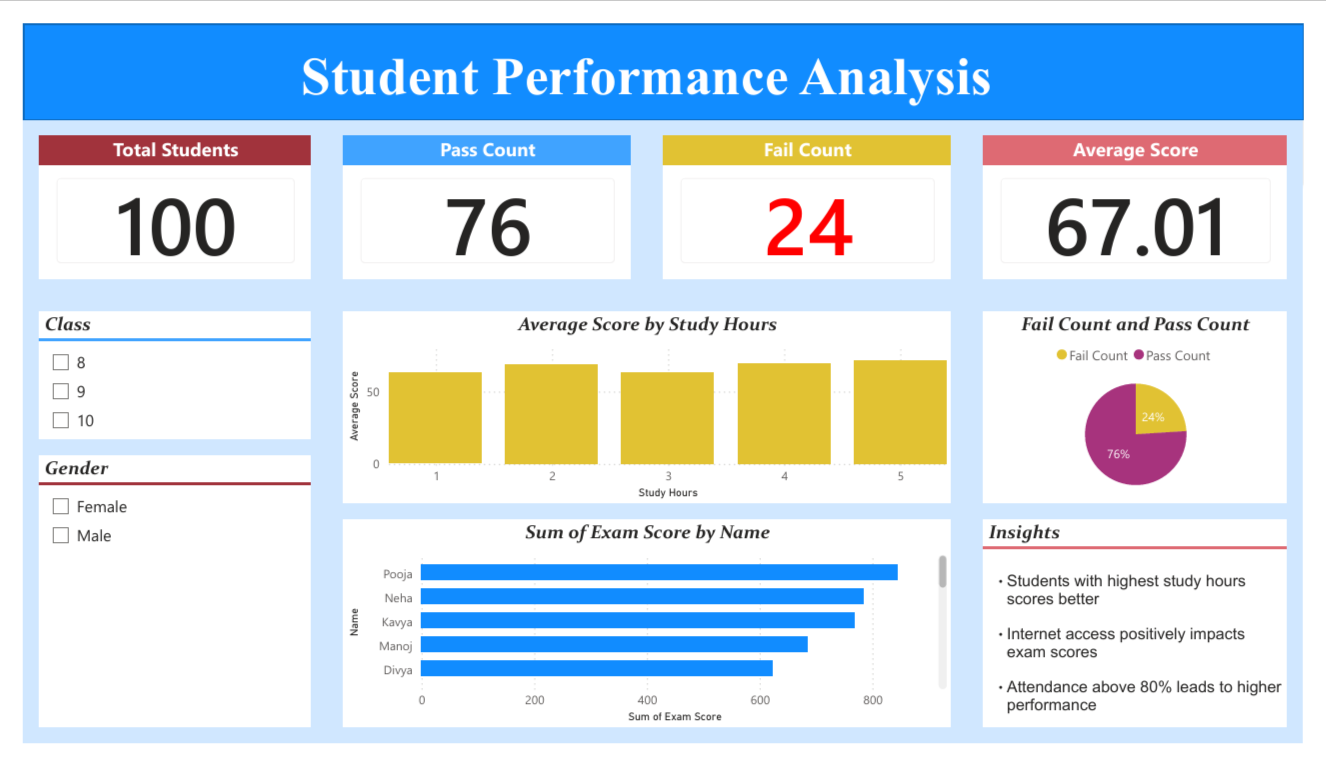

This screenshot's page, from the dashboard's own definition file:
{"tool":"powerbi","page":{"name":"Page 1","canvas":[1280,720],"ordinal":0},"visuals":[{"type":"cardVisual","title":"Total Students","fields":{"Data":["Students.Total Students"]},"box":[16,112,272,144],"z":0},{"type":"cardVisual","title":"Pass Count","fields":{"Data":["Students.Pass Count"]},"box":[320,112,288,144],"z":1000},{"type":"cardVisual","title":"Fail Count","fields":{"Data":["Students.Fail Count"]},"box":[640,112,288,144],"z":2000},{"type":"cardVisual","title":"Average Score","fields":{"Data":["Students.Average Score"]},"box":[960,112,304,144],"z":3000},{"type":"clusteredBarChart","fields":{"Category":["Students.Name"],"Y":["Students.Exam Score"]},"box":[320,496,608,208],"z":4000},{"type":"clusteredColumnChart","fields":{"Category":["Students.Study Hours"],"Y":["Students.Average Score"]},"box":[320,288,608,192],"z":5000},{"type":"slicer","title":"Class","fields":{"Values":["Students.Class"]},"box":[16,288,272,128],"z":6000},{"type":"pieChart","fields":{"Y":["Students.Fail Count","Students.Pass Count"]},"box":[960,288,304,192],"z":7000},{"type":"shape","box":[0,0,1280,96],"z":8000},{"type":"textbox","box":[272,16,864,224],"z":9000},{"type":"slicer","title":"Gender","fields":{"Values":["Students.Gender"]},"box":[16,432,272,272],"z":9001},{"type":"textbox","title":"Insights","box":[960,496,304,208],"z":9002}]}

Visuals, with their boxes in screenshot pixels (x1, y1, x2, y2), scaled from the page's 1280x720 canvas onto the 1326x766 screenshot:
"Total Students" cardVisual: (17, 119, 298, 272)
"Pass Count" cardVisual: (332, 119, 630, 272)
"Fail Count" cardVisual: (663, 119, 961, 272)
"Average Score" cardVisual: (994, 119, 1309, 272)
clusteredBarChart - Students.Name x Students.Exam Score: (332, 528, 961, 749)
clusteredColumnChart - Students.Study Hours x Students.Average Score: (332, 306, 961, 511)
"Class" slicer: (17, 306, 298, 443)
pieChart - Students.Fail Count x Students.Pass Count: (994, 306, 1309, 511)
shape: (0, 0, 1325, 102)
textbox: (282, 17, 1177, 255)
"Gender" slicer: (17, 460, 298, 749)
"Insights" textbox: (994, 528, 1309, 749)
